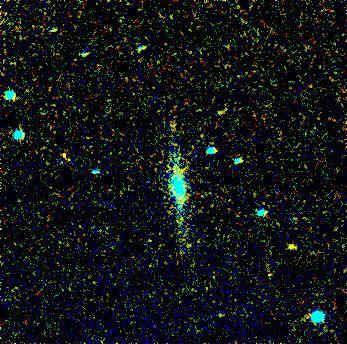star: (277, 230, 307, 260)
